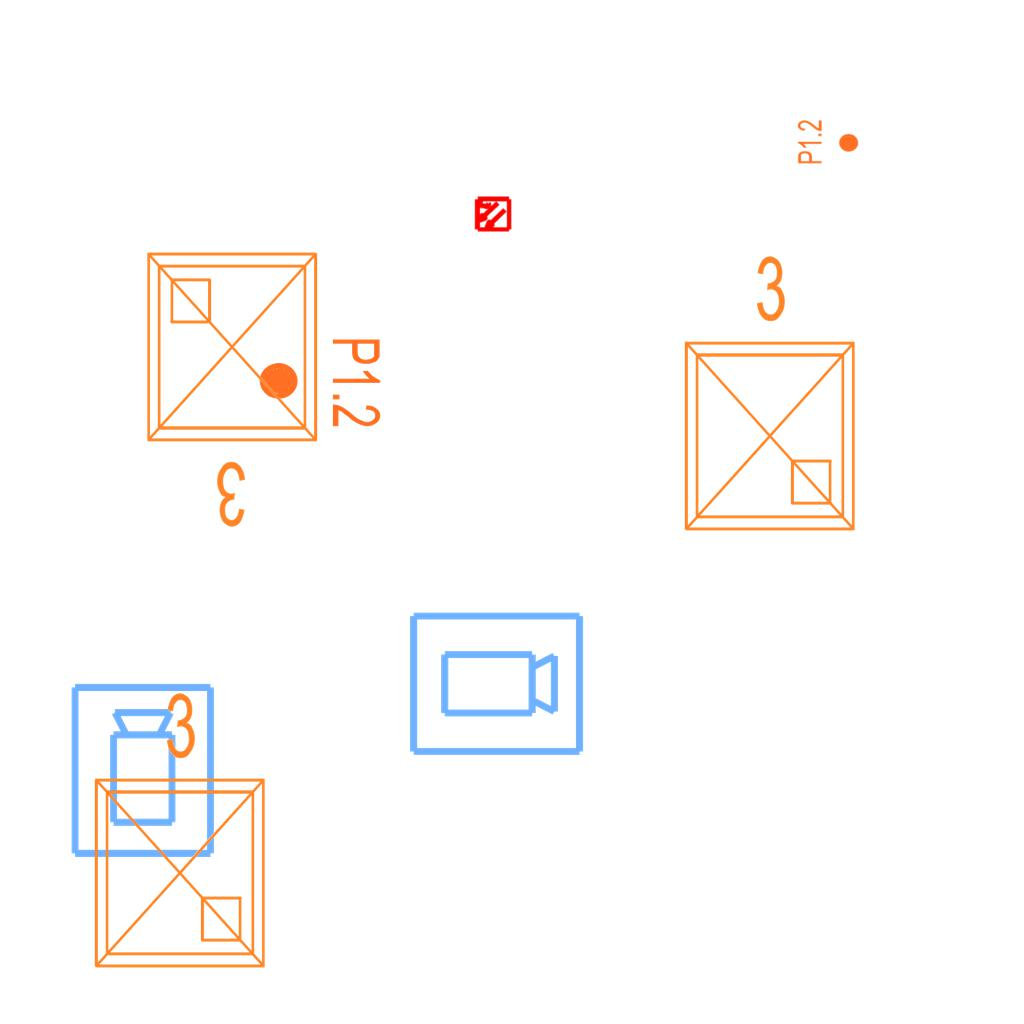Downlight_LED_Einbauleuchten_Flur: (256, 336, 384, 429), (796, 119, 860, 165)
Einbaudownlights_LED_Konferenzraeume: (132, 238, 340, 538), (662, 245, 870, 545), (72, 682, 280, 982)
KFO_Kamera_mit_Festobjektiv: (67, 680, 221, 862), (405, 608, 587, 762)
OT_Multisensormelder_(Kombination_RMO_WMD): (464, 186, 520, 242)
